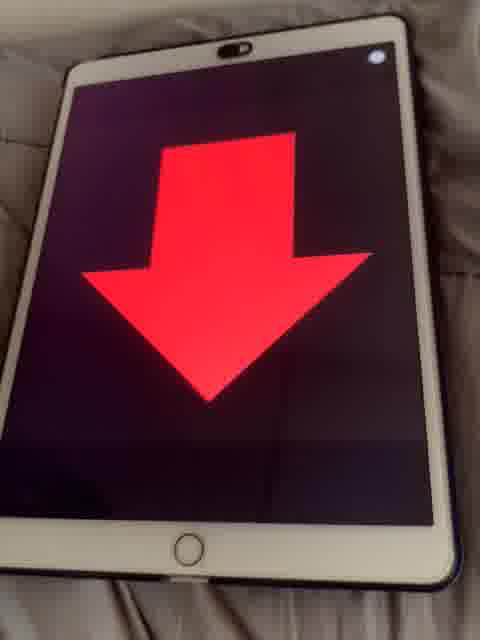down: (73, 125, 369, 410)
